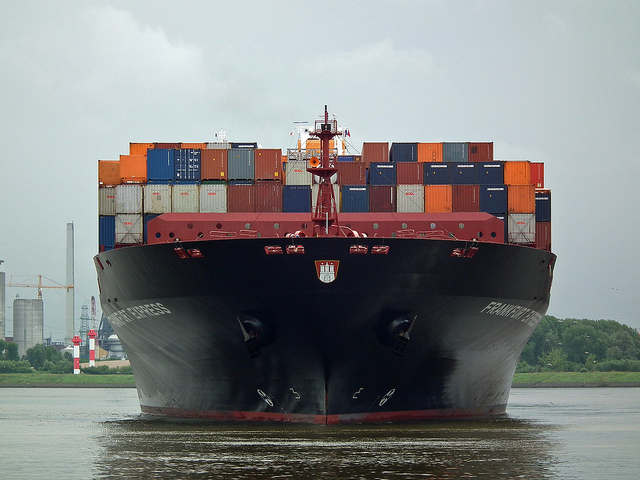container_ship: (95, 112, 561, 425)
